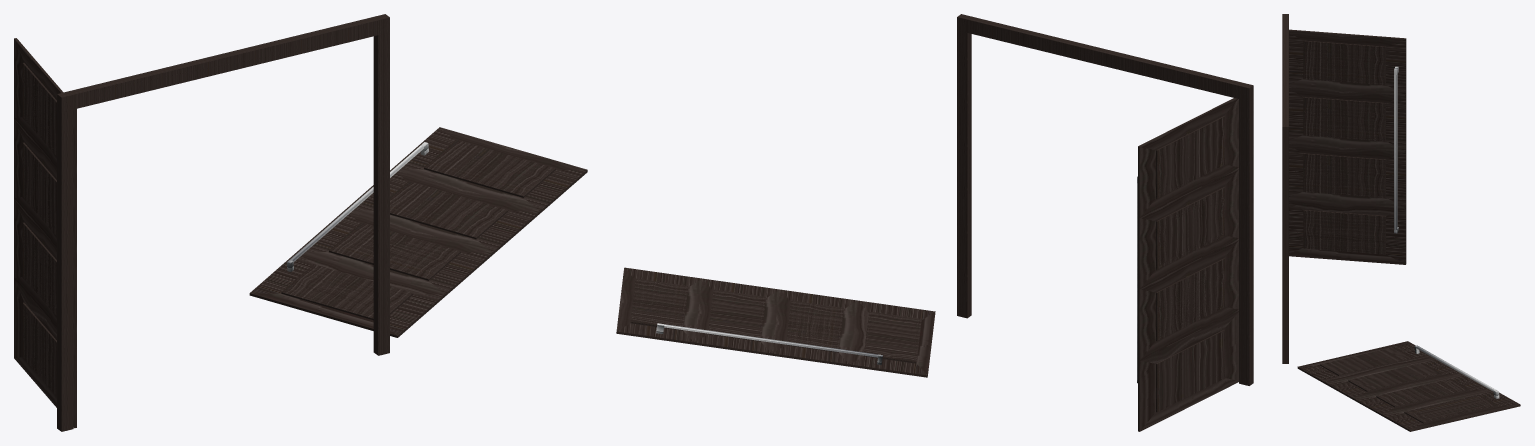
File: Pintu besar 2.fbx
3 renders of one model, left to right at view 1: azimuth 30°, elevation 25°; view 2: azimuth 150°, elevation 25°; view 3: azimuth 270°, elevation 25°, orthographic. The views are drawn at different scales.
Parts seen in each view (by area): view 1: Pintu besar.001, Cube.279, Pintu besar.002; view 2: Pintu besar.002, Pintu besar.001, Cube.279; view 3: Pintu besar.002, Pintu besar.001, Cube.279.
Part boxes in pixels (bbox=[...]): Pintu besar.001: bbox=[249, 127, 587, 337]; Cube.279: bbox=[57, 14, 389, 431]; Pintu besar.002: bbox=[14, 38, 76, 428]; Pintu besar.002: bbox=[1137, 98, 1238, 431]; Pintu besar.001: bbox=[616, 267, 935, 377]; Cube.279: bbox=[957, 14, 1253, 385]; Pintu besar.002: bbox=[1289, 29, 1406, 264]; Pintu besar.001: bbox=[1297, 341, 1520, 431]; Cube.279: bbox=[1282, 14, 1288, 363].
Bounding box in the file's own units: 662 × 344 × 314.
